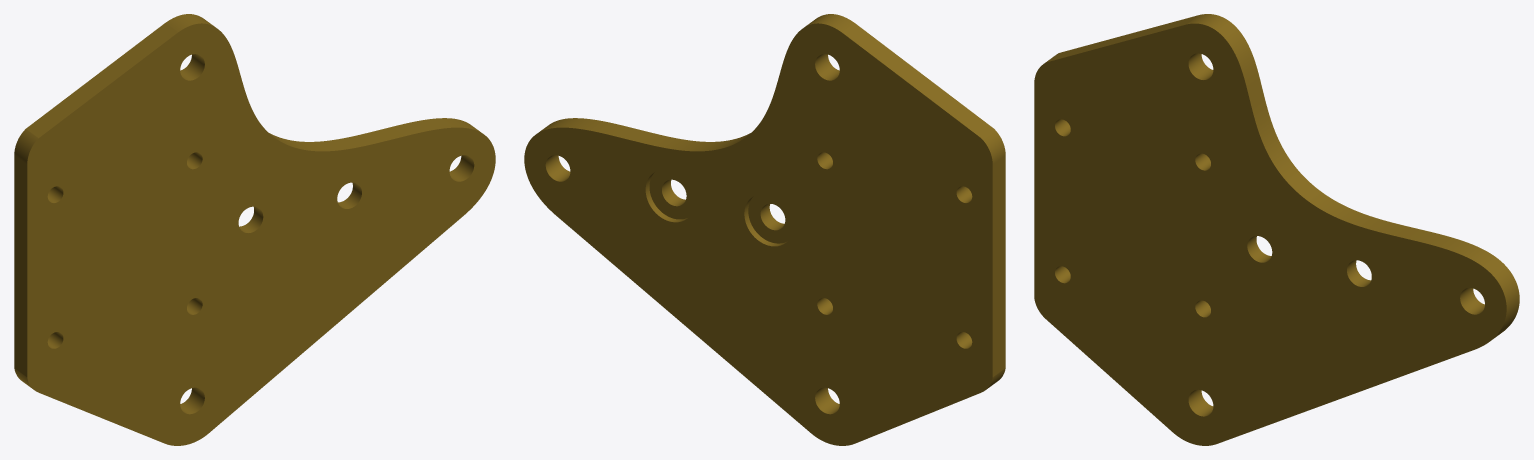
The model's file is MotorMountPlate.obj.
3 renders of one model, left to right at view 1: azimuth 30°, elevation 25°; view 2: azimuth 150°, elevation 25°; view 3: azimuth 330°, elevation 25°, orthographic.
Parts seen in each view (by area): view 1: Body1; view 2: Body1; view 3: Body1.
Boxes of the visible parts, x1=… form: Body1: x1=14, y1=14, x2=495, y2=445; Body1: x1=524, y1=14, x2=1005, y2=445; Body1: x1=1034, y1=14, x2=1519, y2=445.
Bounding box in the file's own units: 104 × 89.1 × 5.
